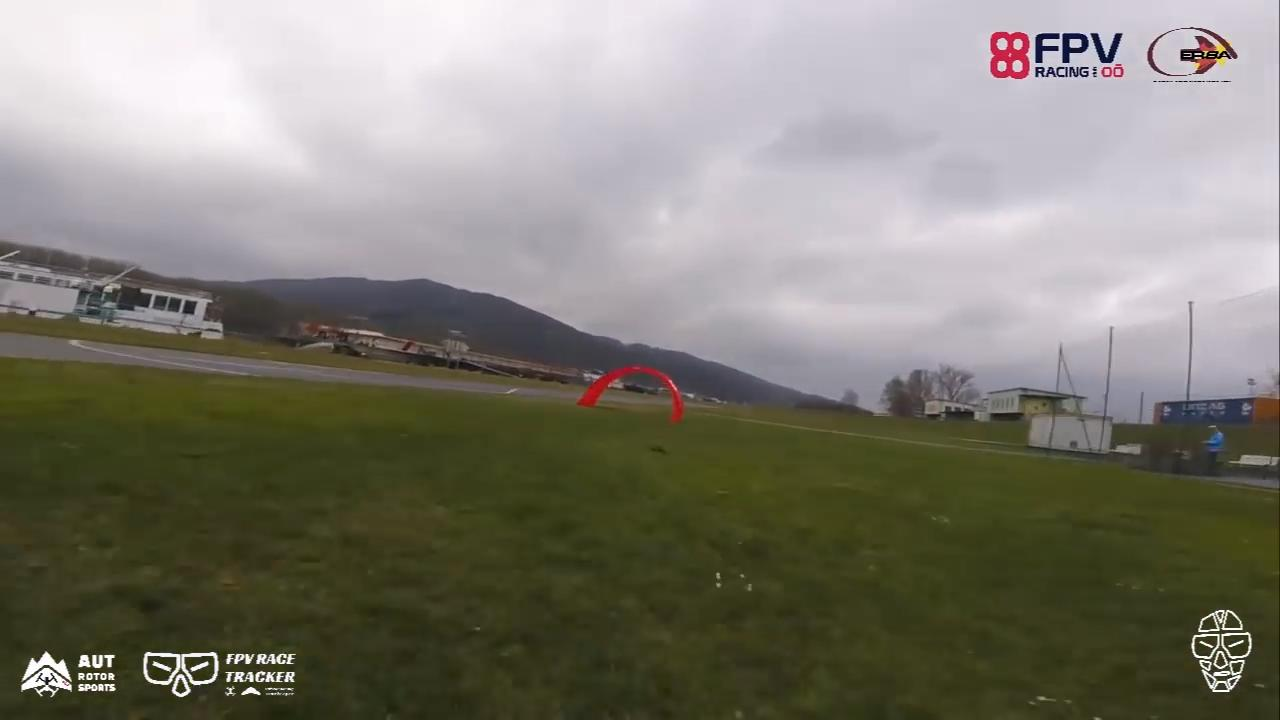gate: (578, 363, 685, 429)
